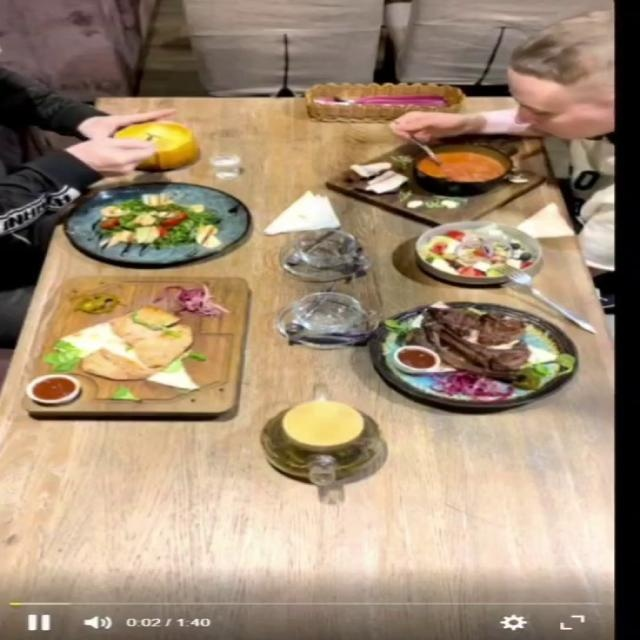meat: (24, 282, 248, 413), (367, 300, 579, 408)
salad: (61, 182, 248, 266), (414, 220, 544, 285)
soup: (324, 134, 548, 226), (113, 122, 200, 170)
tea: (238, 372, 418, 512)
